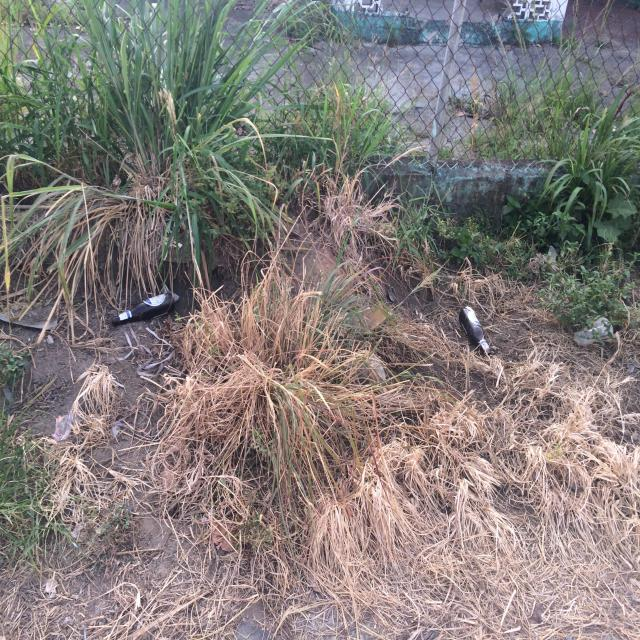litter: (111, 292, 175, 327), (459, 307, 492, 359), (51, 400, 75, 445), (574, 318, 613, 345)
